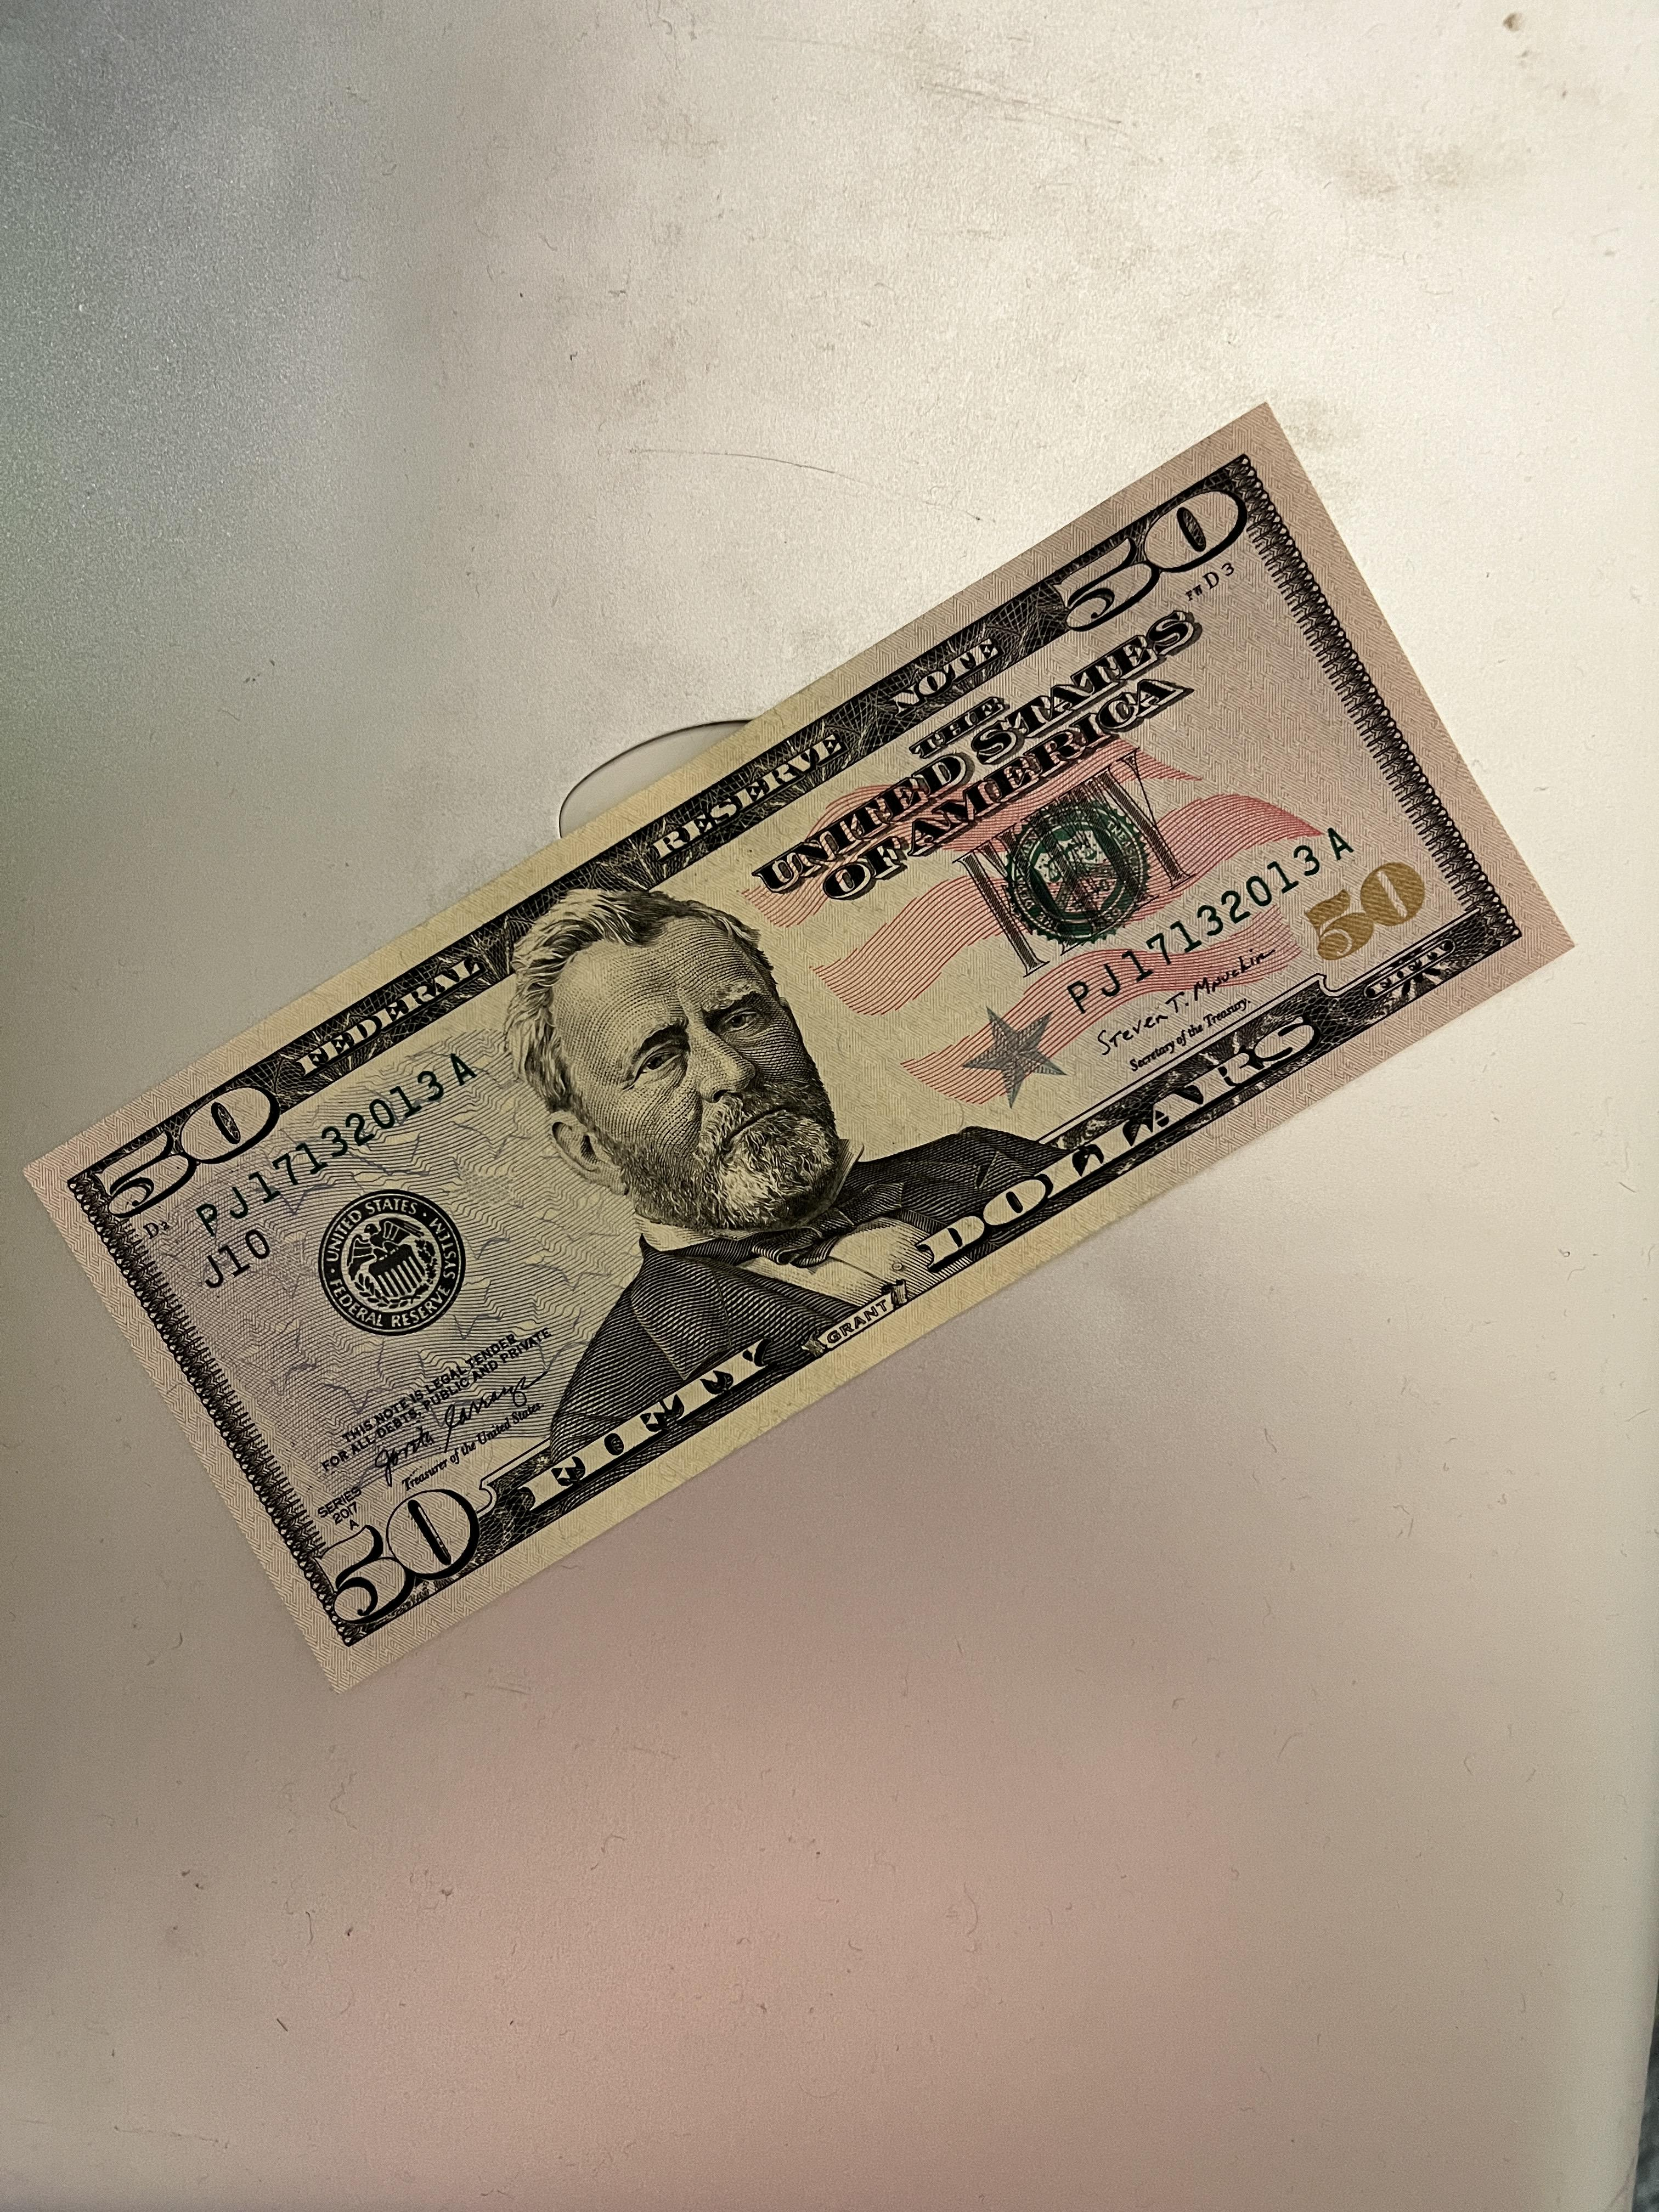FiftyBill: (40, 399, 1581, 1693)
